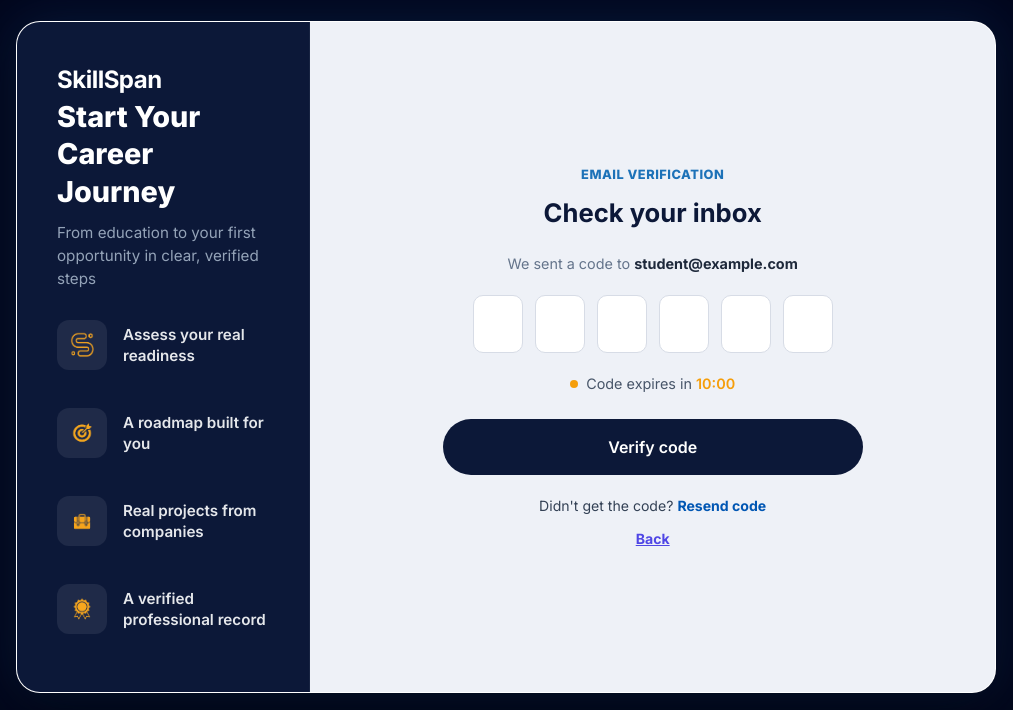
Test: OtpVerification › shows a server error and does NOT show success when the backend rejects the code
Type "0" into the 1st field.
click(498, 324); type("0")  # box [473,295,523,353]
Type "0" into the 2nd field.
click(560, 324); type("0")  # box [535,295,585,353]
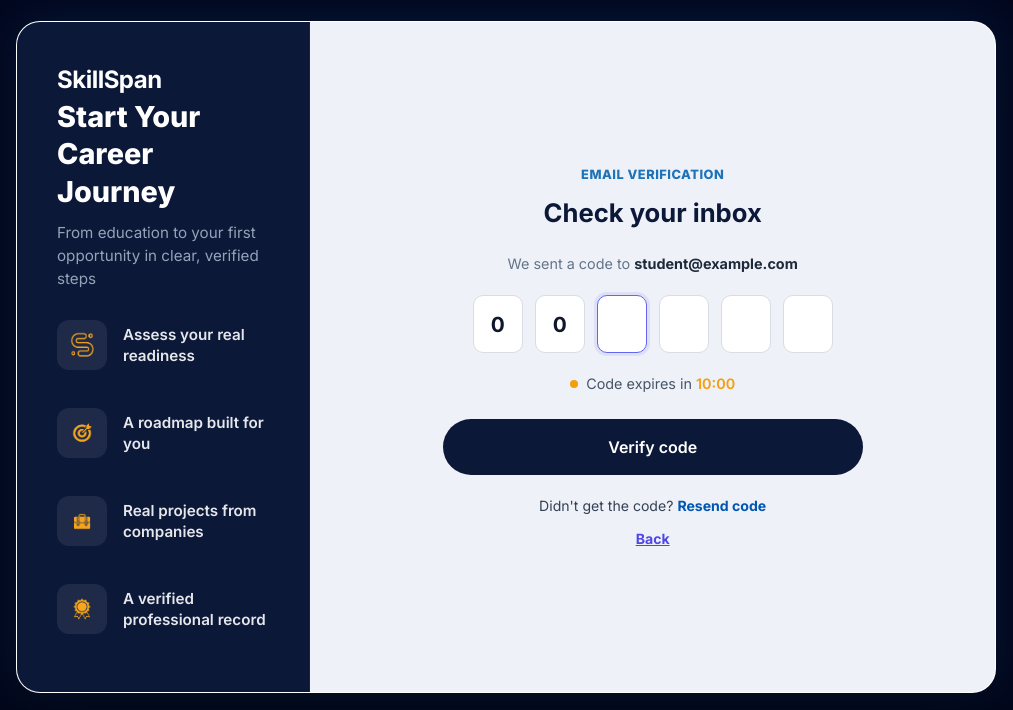
Type "0" into the 3rd field.
click(622, 324); type("0")  # box [597,295,647,353]
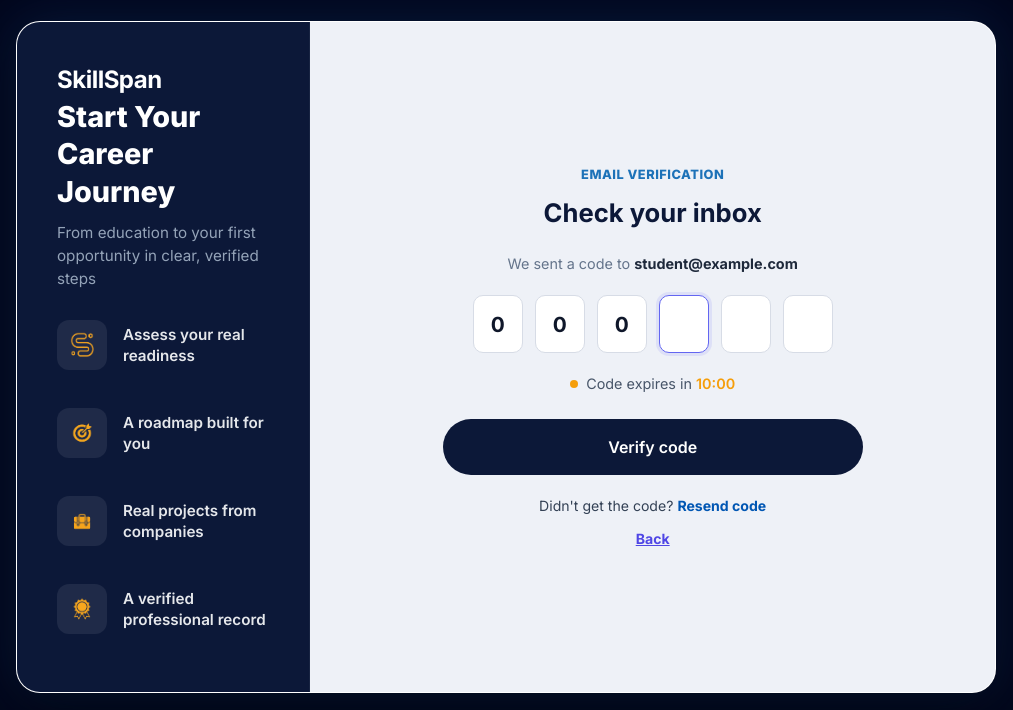
Type "0" into the 4th field.
click(684, 324); type("0")  # box [659,295,709,353]
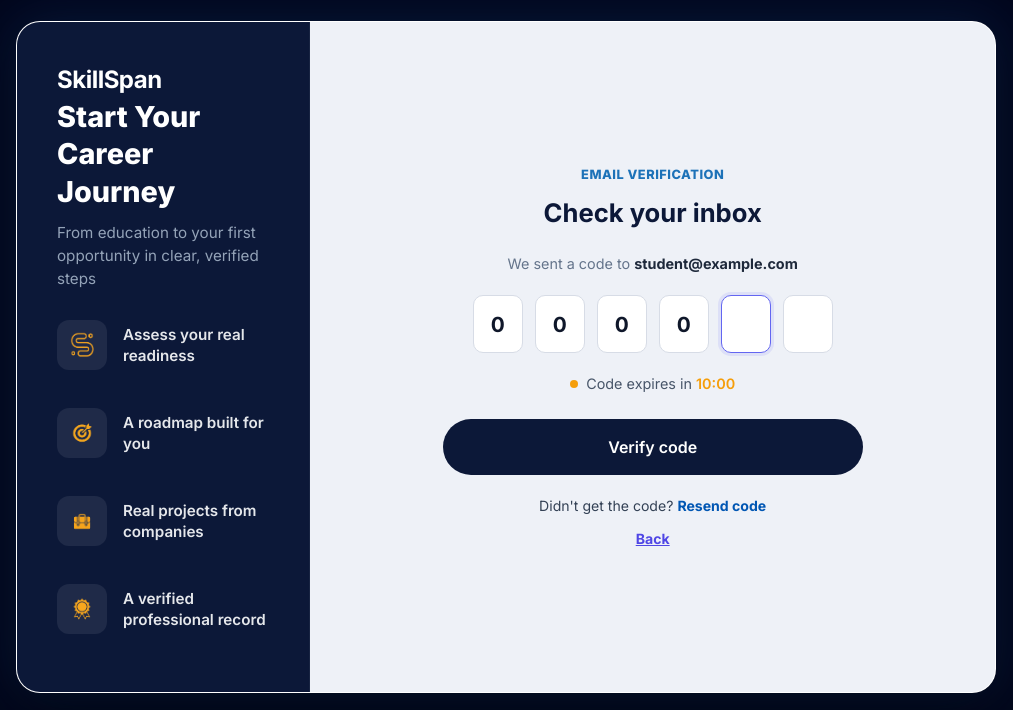
Type "0" into the 5th field.
click(746, 324); type("0")  # box [721,295,771,353]
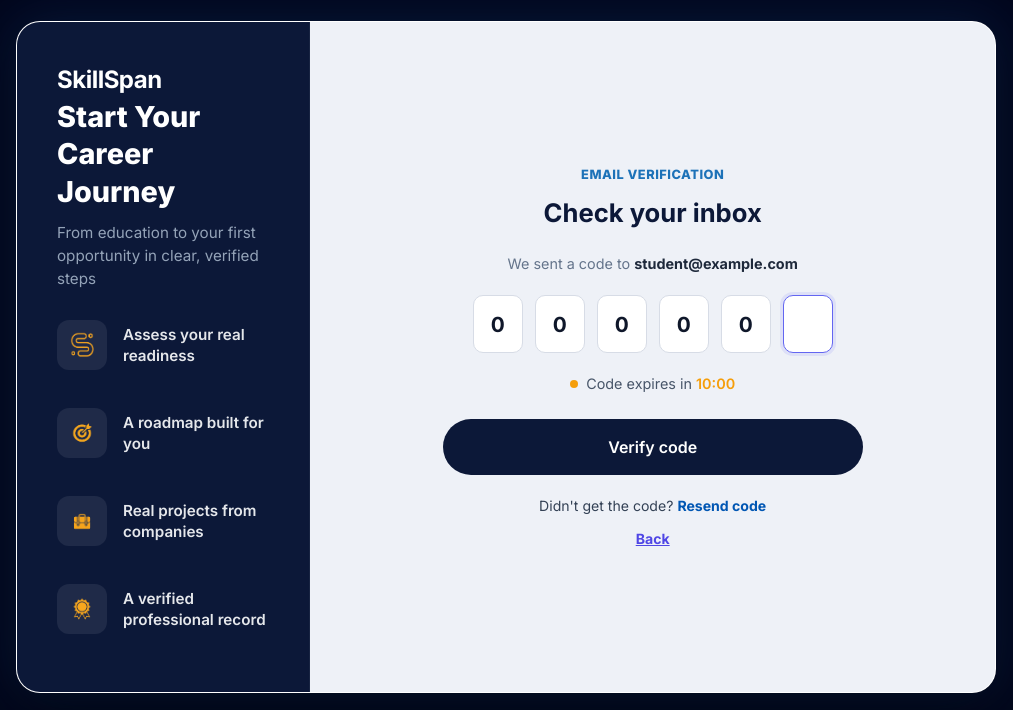
Type "0" into the 6th field.
click(808, 324); type("0")  # box [783,295,833,353]
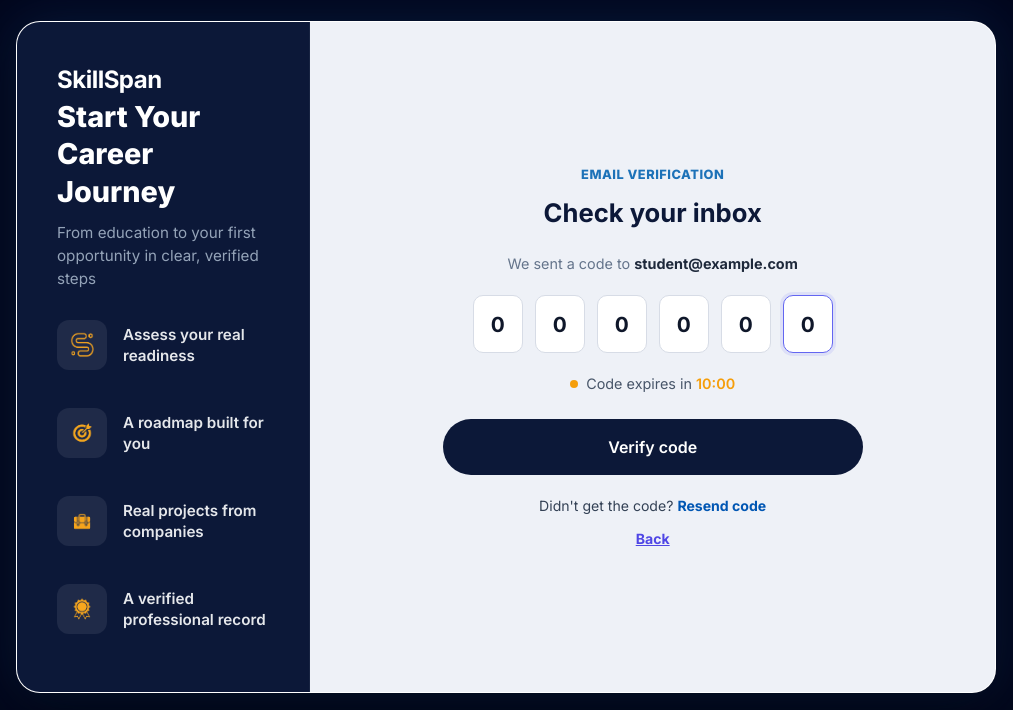
Click the button "Verify code".
click(653, 447)  # box [443,419,863,475]
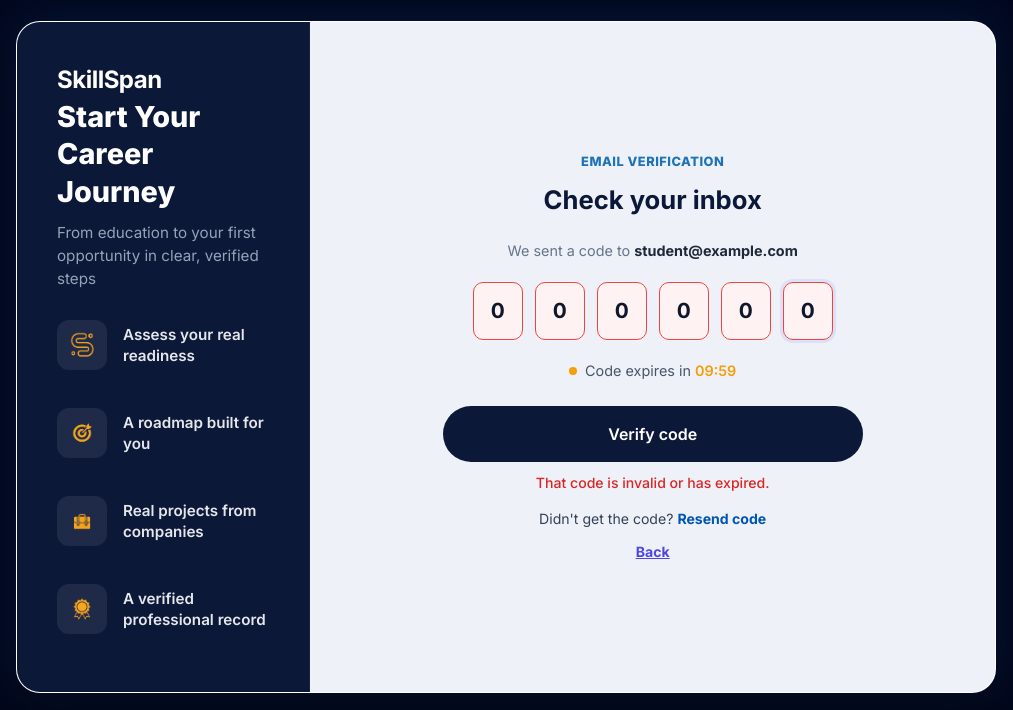
expect the text "That code is invalid or has expired." is shown: met, box [536,472,770,493]
